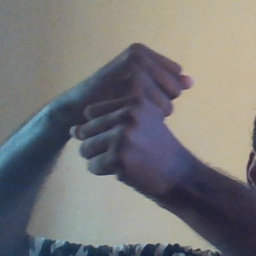G: (70, 38, 195, 180)
